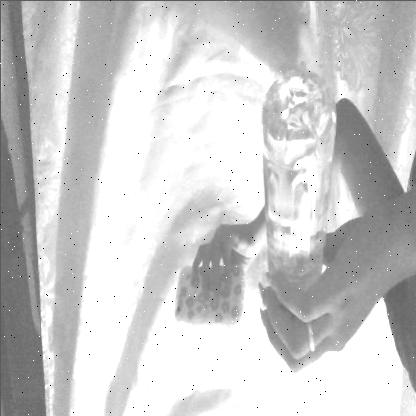Plastic Bottle: (244, 24, 366, 390)
